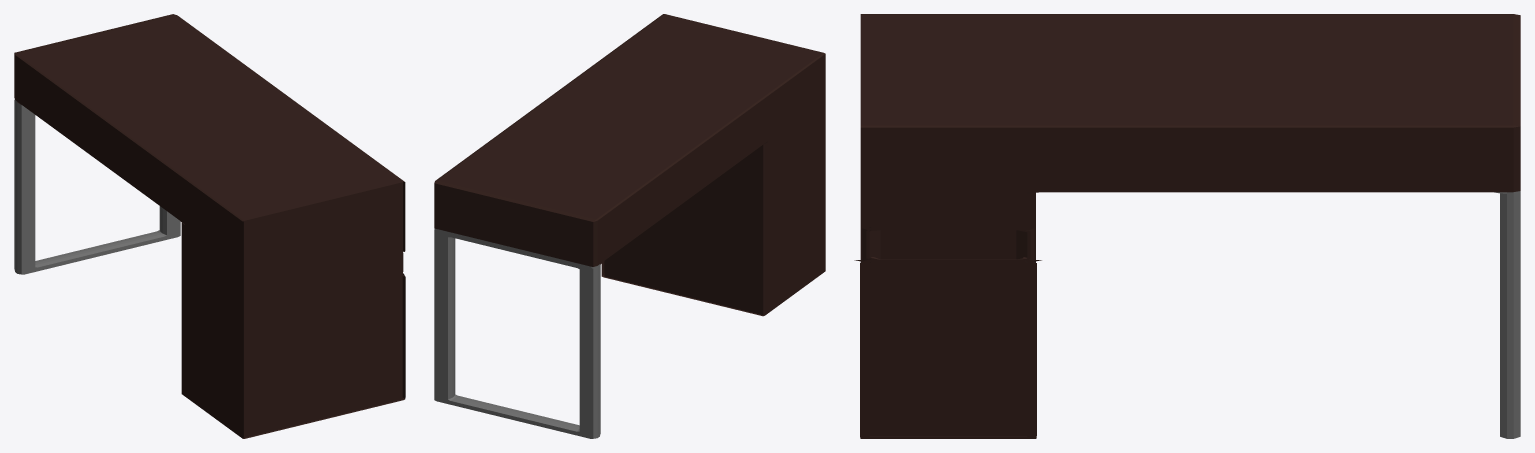
File: Desk.fbx
The picture shows the model from 3 angles, left to right: view 1: azimuth 30°, elevation 25°; view 2: azimuth 150°, elevation 25°; view 3: azimuth 270°, elevation 25°; orthographic projection. The views are drawn at different scales.
Parts seen in each view (by area): view 1: Cube; view 2: Cube; view 3: Cube.
Part boxes in pixels (x1,y1,x2,y2): Cube: [14, 14, 405, 438]; Cube: [434, 14, 825, 438]; Cube: [854, 14, 1520, 438].
Size of the model in its own units: 200 by 257 by 496.
